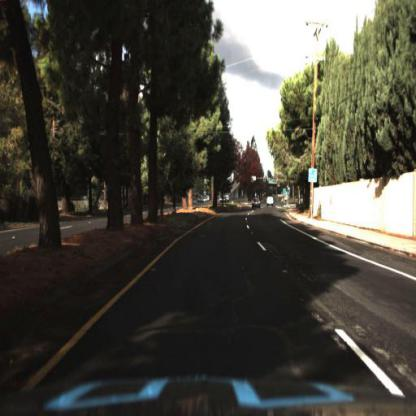car: (264, 191, 275, 209)
trafficLight: (286, 183, 291, 193)
